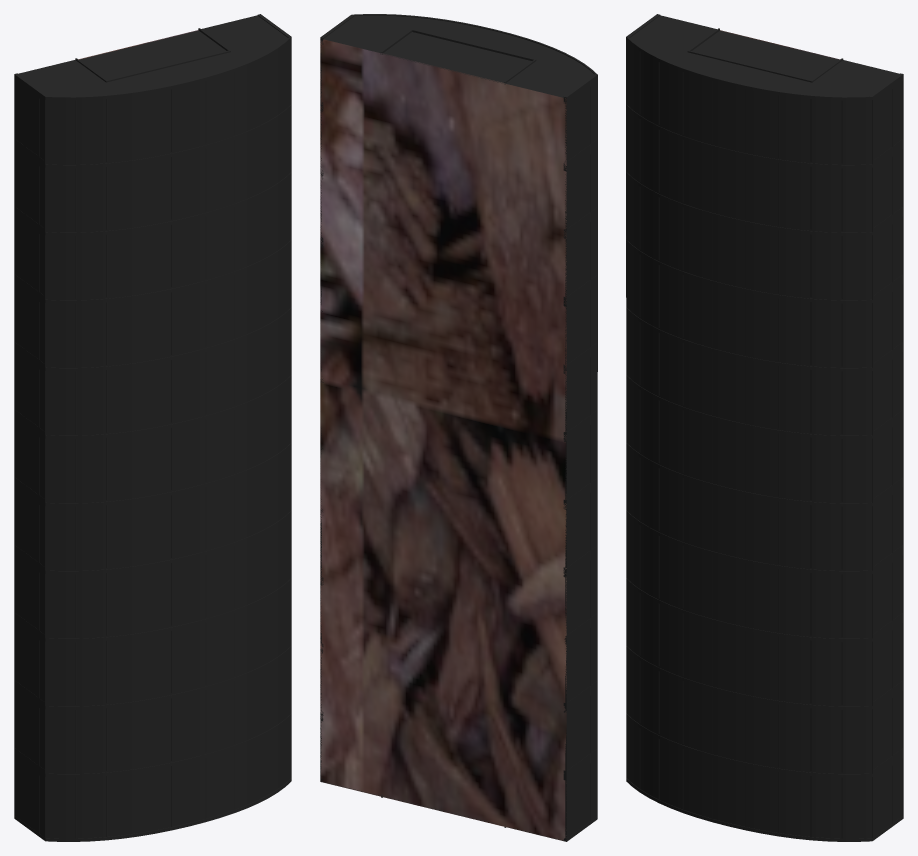
The model's file is stock_pavilion.obj.
3 renders of one model, left to right at view 1: azimuth 30°, elevation 25°; view 2: azimuth 150°, elevation 25°; view 3: azimuth 330°, elevation 25°, orthographic.
Visible parts, largest first — view 1: NurbsPath.005; view 2: NurbsPath.005; view 3: NurbsPath.005.
Part boxes in pixels (x1,y1,x2,y2): NurbsPath.005: (14,14,291,841); NurbsPath.005: (320,14,597,841); NurbsPath.005: (626,14,903,841).
Bounding box in the file's own units: 48 × 139 × 17.58.
3 materials, 1 textured.
